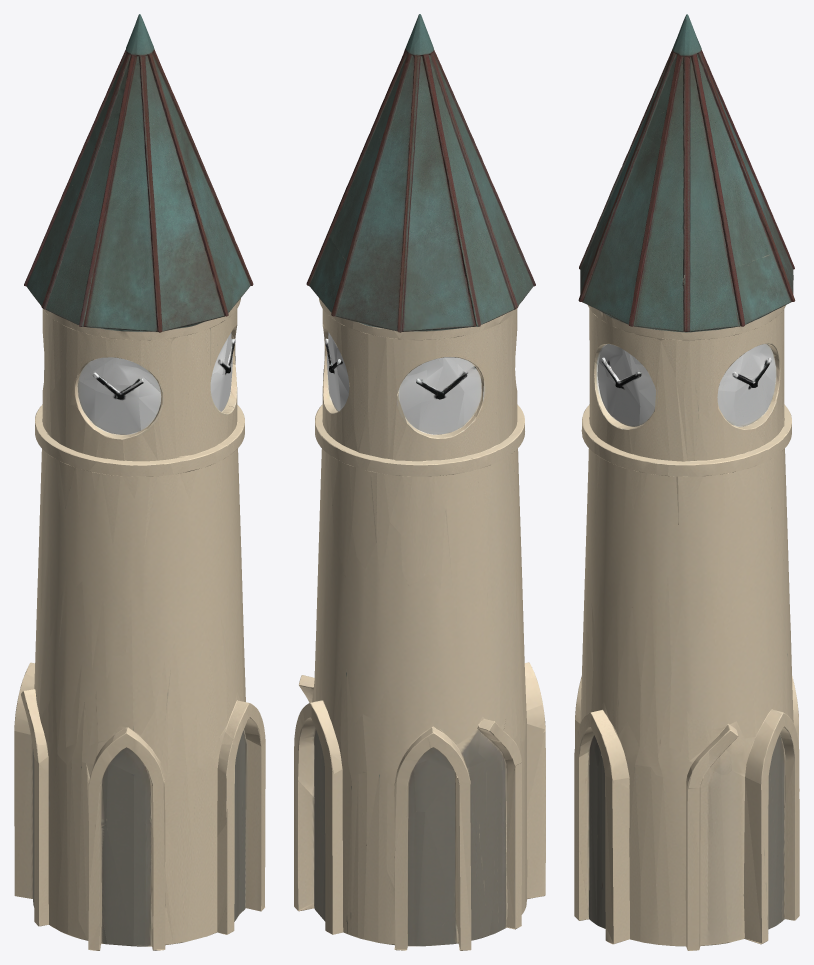
File: clock-tower.raw.glb
3 views of the same model, side by side, from view 1: azimuth 30°, elevation 25°; view 2: azimuth 150°, elevation 25°; view 3: azimuth 270°, elevation 25° (orthographic).
Parts seen in each view (by area): view 1: Mesh_0; view 2: Mesh_0; view 3: Mesh_0.
Boxes of the visible parts, x1,y1,x2,y2 form: Mesh_0: [14, 14, 265, 950]; Mesh_0: [294, 14, 545, 950]; Mesh_0: [574, 14, 799, 950].
Bounding box in the file's own units: 0.4581 × 1.9 × 0.4377.
1 material, 1 textured.
